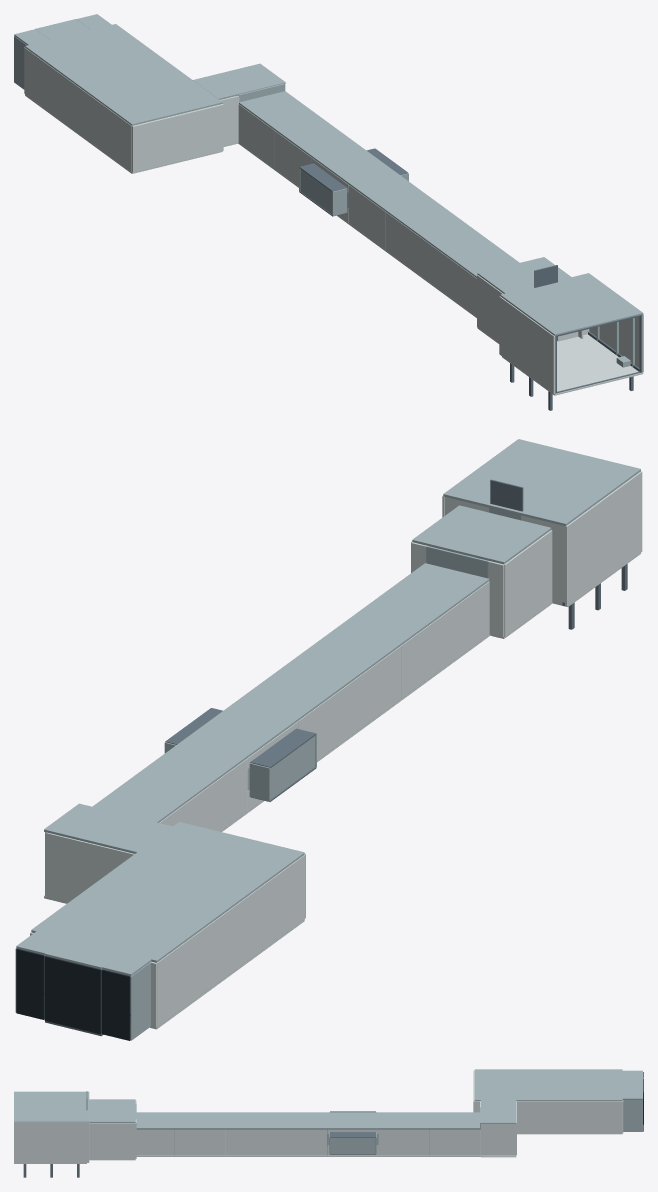
Rendered from research-wing.glb.
3 renders of one model, top to bottom at view 1: azimuth 30°, elevation 25°; view 2: azimuth 150°, elevation 25°; view 3: azimuth 270°, elevation 25°, orthographic. The views are drawn at different scales.
Visible parts, largest first — view 1: Research_Hall_Research_Panel, Research_Gallery_Research_Panel, Research_Hall_Research_Ceramic, Research_Gallery_Research_Ceramic, Research_Overlook_Research_Ceramic, Research_Overlook_Research_Panel, Research_Overlook_Research_Alloy, Research_Hall_Research_Alloy; view 2: Research_Hall_Research_Panel, Research_Gallery_Research_Panel, Research_Hall_Research_Ceramic, Research_Gallery_Research_Ceramic, Research_Overlook_Research_Panel, Research_Overlook_Research_Ceramic, Research_Gallery_Research_Graphite, Research_Hall_Research_Alloy, Research_OverlookSeal; view 3: Research_Hall_Research_Ceramic, Research_Hall_Research_Panel, Research_Gallery_Research_Panel, Research_Gallery_Research_Ceramic, Research_Overlook_Research_Ceramic, Research_Overlook_Research_Panel, Research_Hall_Research_Alloy.
Part boxes in pixels (x1=…): Research_Hall_Research_Panel: x1=193, y1=63, x2=571, y2=293; Research_Gallery_Research_Panel: x1=14, y1=14, x2=222, y2=125; Research_Hall_Research_Ceramic: x1=220, y1=95, x2=583, y2=343; Research_Gallery_Research_Ceramic: x1=24, y1=47, x2=223, y2=173; Research_Overlook_Research_Ceramic: x1=499, y1=296, x2=643, y2=395; Research_Overlook_Research_Panel: x1=500, y1=273, x2=643, y2=367; Research_Overlook_Research_Alloy: x1=510, y1=315, x2=642, y2=410; Research_Hall_Research_Alloy: x1=299, y1=148, x2=407, y2=216; Research_Hall_Research_Panel: x1=44, y1=505, x2=551, y2=853; Research_Gallery_Research_Panel: x1=15, y1=821, x2=304, y2=1040; Research_Hall_Research_Ceramic: x1=44, y1=530, x2=552, y2=903; Research_Gallery_Research_Ceramic: x1=30, y1=853, x2=305, y2=1029; Research_Overlook_Research_Panel: x1=443, y1=439, x2=640, y2=525; Research_Overlook_Research_Ceramic: x1=442, y1=471, x2=642, y2=606; Research_Gallery_Research_Graphite: x1=16, y1=948, x2=130, y2=1040; Research_Hall_Research_Alloy: x1=165, y1=708, x2=316, y2=801; Research_OverlookSeal: x1=490, y1=479, x2=523, y2=511; Research_Hall_Research_Ceramic: x1=89, y1=1100, x2=516, y2=1160; Research_Hall_Research_Panel: x1=89, y1=1099, x2=516, y2=1154; Research_Gallery_Research_Panel: x1=474, y1=1069, x2=643, y2=1131; Research_Gallery_Research_Ceramic: x1=473, y1=1070, x2=623, y2=1134; Research_Overlook_Research_Ceramic: x1=14, y1=1122, x2=89, y2=1163; Research_Overlook_Research_Panel: x1=14, y1=1091, x2=89, y2=1122; Research_Hall_Research_Alloy: x1=330, y1=1111, x2=375, y2=1154.
Bounding box in the file's own units: 32.41 × 17.17 × 142.
